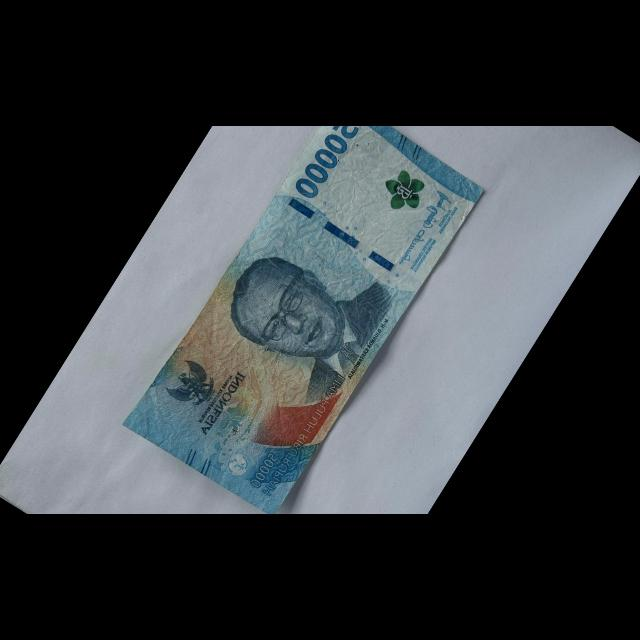Palsu-50k: (118, 87, 489, 524)
Tinta-Palsu-50k: (375, 164, 431, 220)
